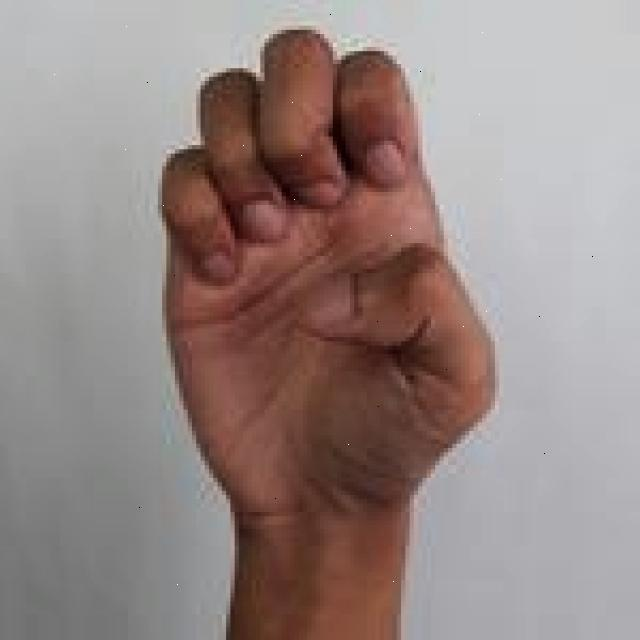E: (162, 24, 500, 640)
